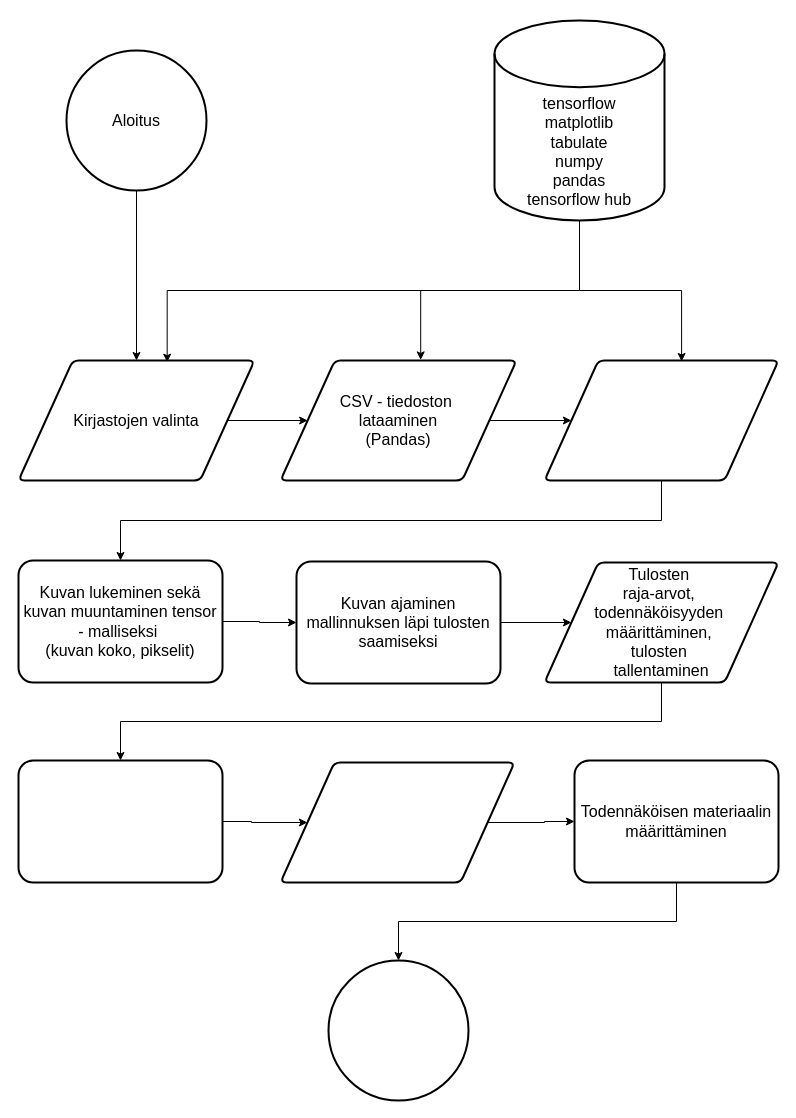
Some shapes in this 796 by 1118 pixel diagram are drawn without their labels. The centre of each missing label's shape, as x and y in pixels:
"Kuvan visualisointi, tulosten taulukointi" goes at point 120,821.
"Materiaalitietojen määrittäminen sekä taulukointi" goes at point 397,822.
"Objektin tunnistusmallin lataaminen (TensorFlow Hub)" goes at point 661,420.
"Tulos" goes at point 398,1030.
